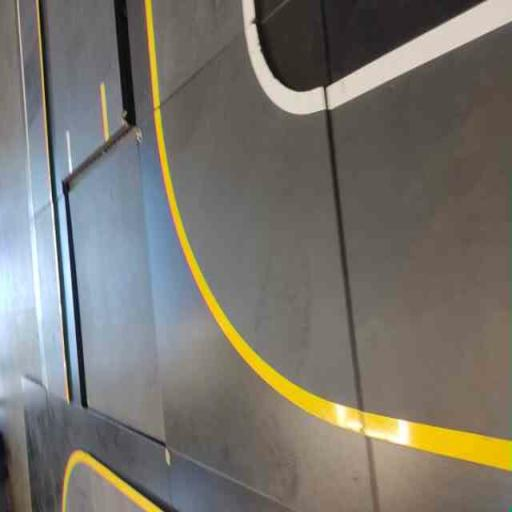right: (138, 1, 367, 452)
